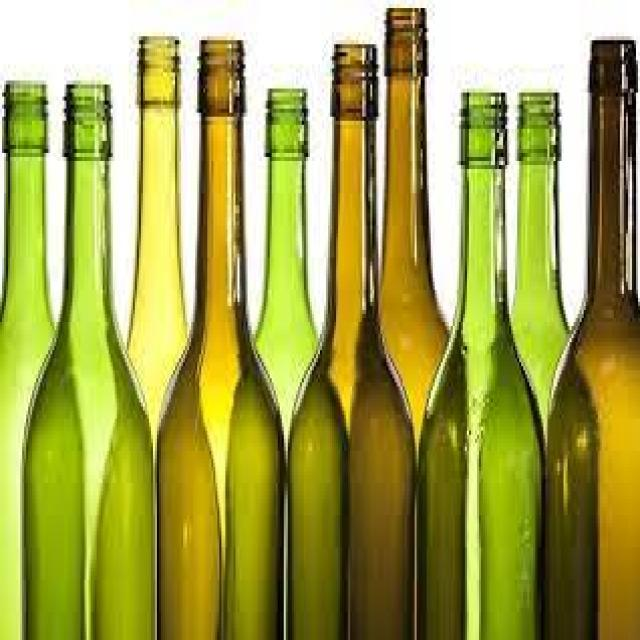Vidrio: (15, 58, 160, 635), (153, 28, 289, 640), (284, 30, 419, 640), (417, 70, 548, 640), (541, 25, 640, 640)
